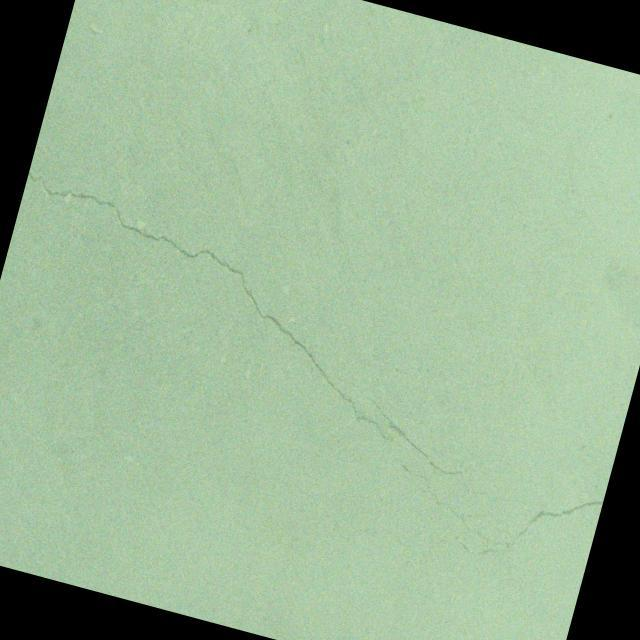crack: (0, 170, 569, 509), (264, 415, 604, 602)
